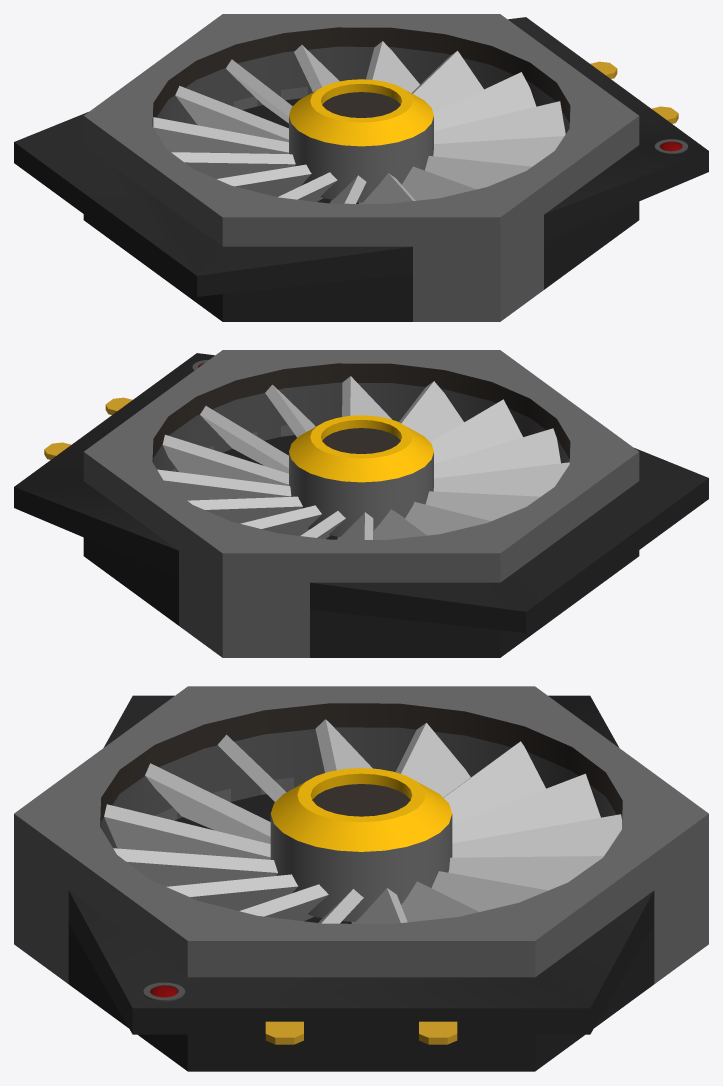
3 views of the same model, one above another, from view 1: azimuth 30°, elevation 25°; view 2: azimuth 150°, elevation 25°; view 3: azimuth 270°, elevation 25° (orthographic). The views are drawn at different scales.
Parts seen in each view (by area): view 1: Group1, Group2; view 2: Group1, Group2; view 3: Group1, Group2.
Boxes of the visible parts, x1,y1,x2,y2 form: Group1: (14,14,708,321); Group2: (153,41,565,203); Group1: (14,350,708,657); Group2: (157,376,569,539); Group1: (14,686,708,1071); Group2: (104,719,621,923).
Size of the model in its own units: 21.96 by 4.64 by 19.61.
